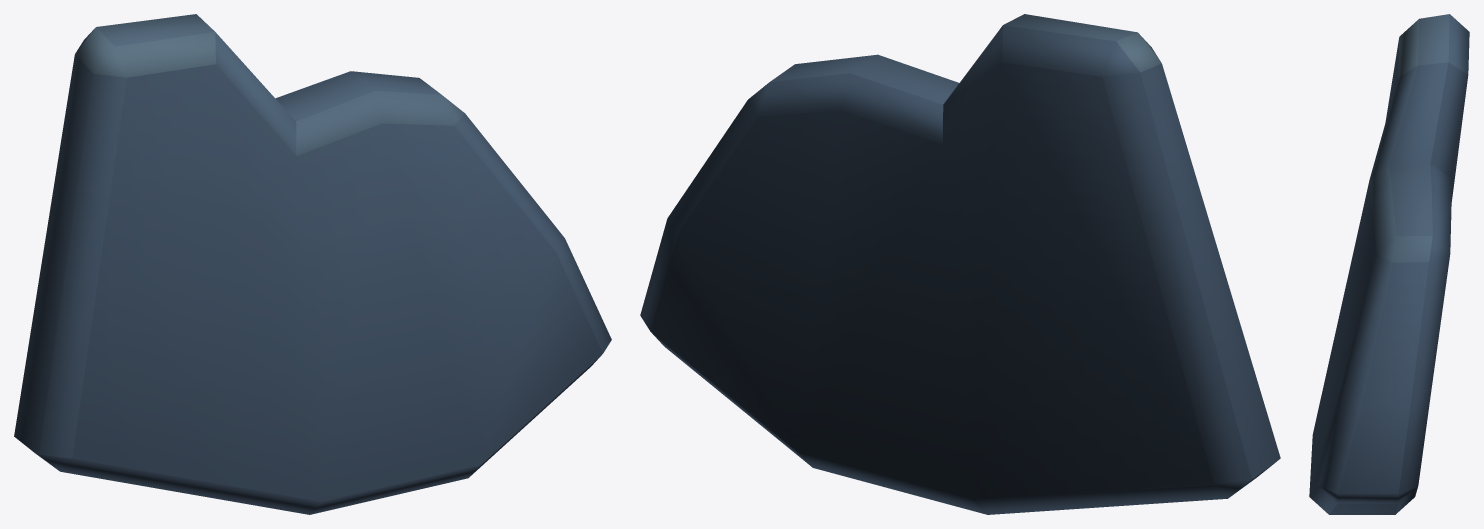
File: rock_010.fbx
3 renders of one model, left to right at view 1: azimuth 30°, elevation 25°; view 2: azimuth 150°, elevation 25°; view 3: azimuth 270°, elevation 25°, orthographic. The views are drawn at different scales.
Visible parts, largest first — view 1: rock_010; view 2: rock_010; view 3: rock_010.
Boxes of the visible parts, bbox=[...] form: rock_010: bbox=[14, 14, 611, 514]; rock_010: bbox=[640, 14, 1280, 514]; rock_010: bbox=[1309, 14, 1469, 514].
Size of the model in its own units: 207 by 170 by 64.47.
Materials: 1 (1 with a texture image).
